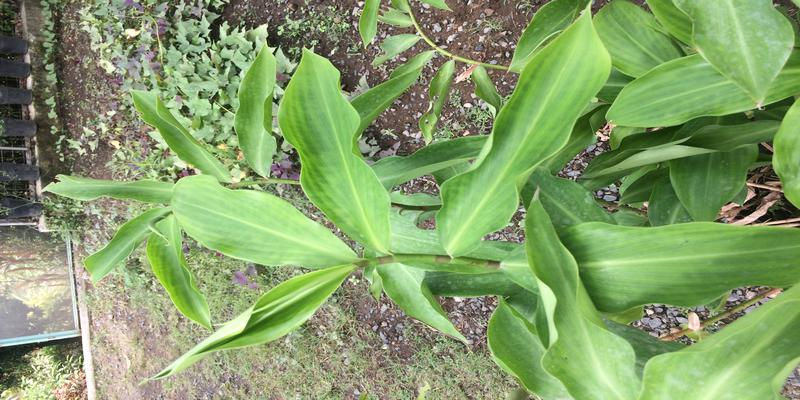Insulin: (51, 71, 793, 345)
